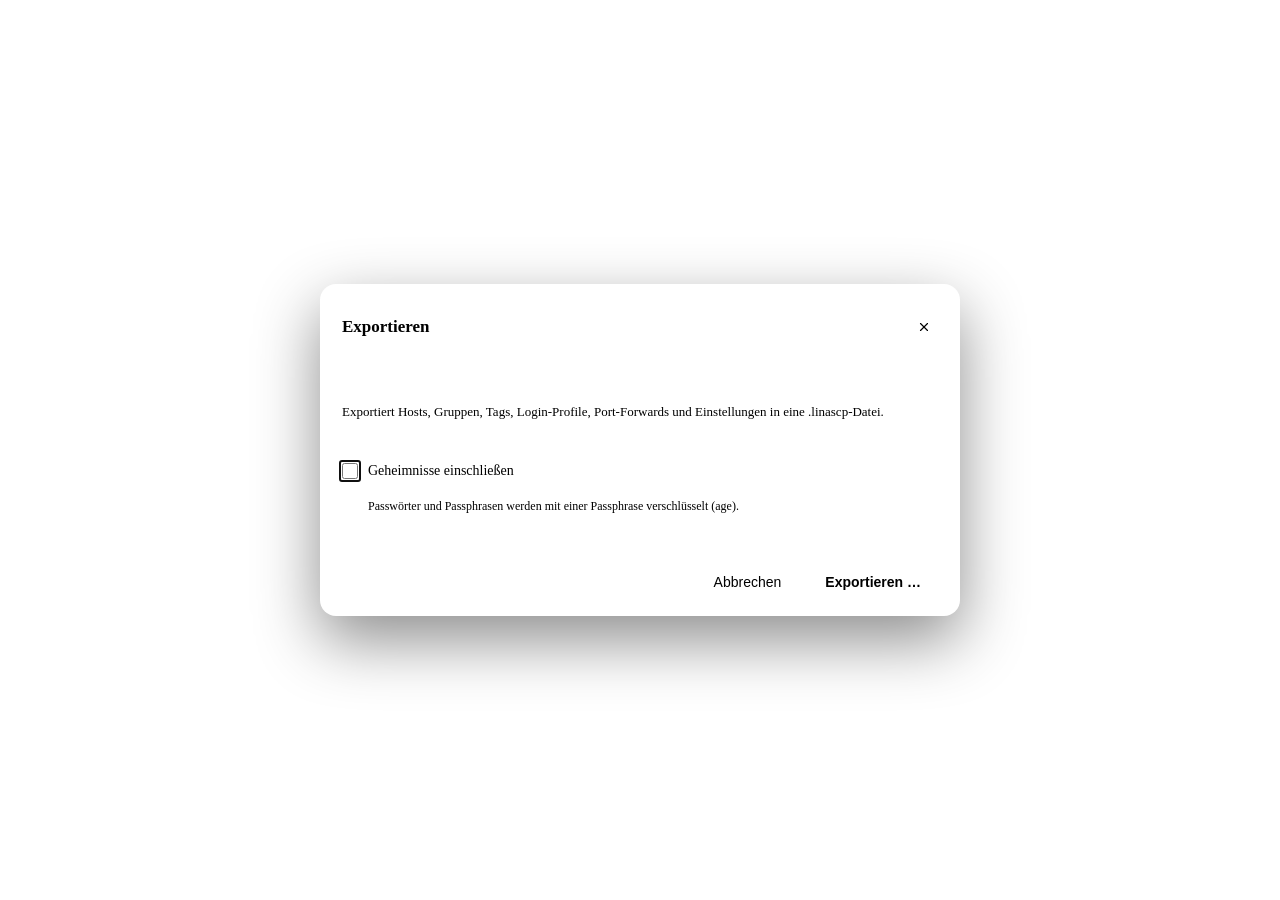
Test: ExportDialog › reports failures
This screenshot has width=1280, height=900.
Click the button "Exportieren …": (873, 582) [808,562,938,602]
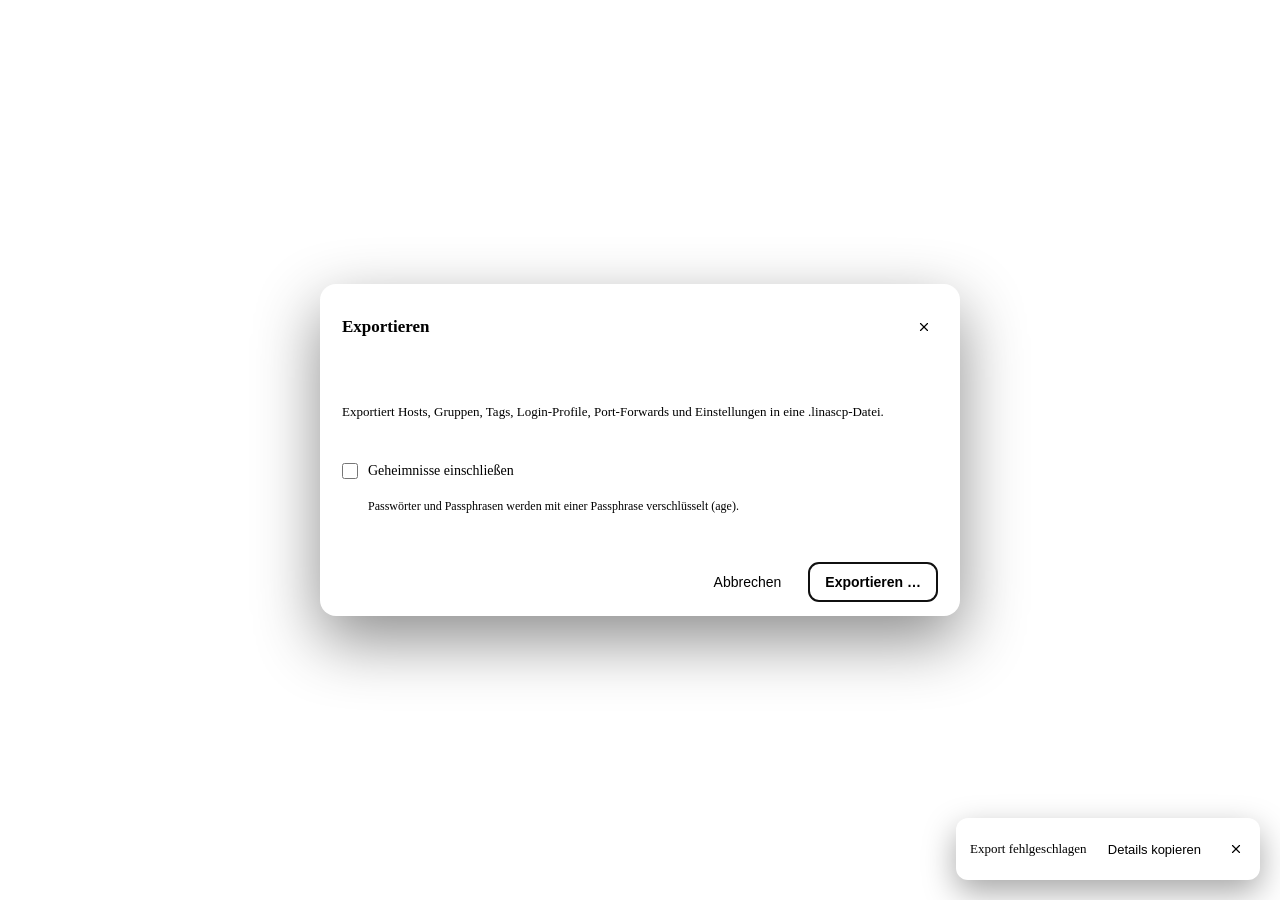
Result: the message shows "Export fehlgeschlagen" at [970,841,1087,856]
